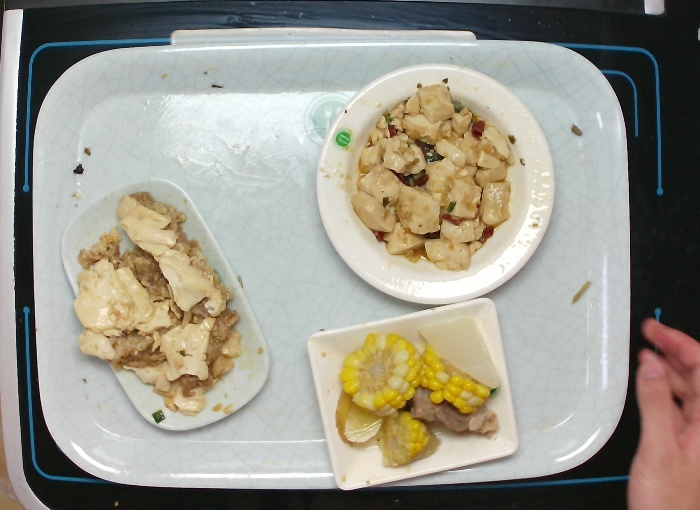WCQzf-Bai_Se_Si_Fang_Die: (304, 295, 521, 493)
WCQzf-Kuan_Bian_Yuan_Die: (314, 61, 557, 307)
WCQzf-Tuo_Yuan_Pan: (60, 175, 274, 433)
